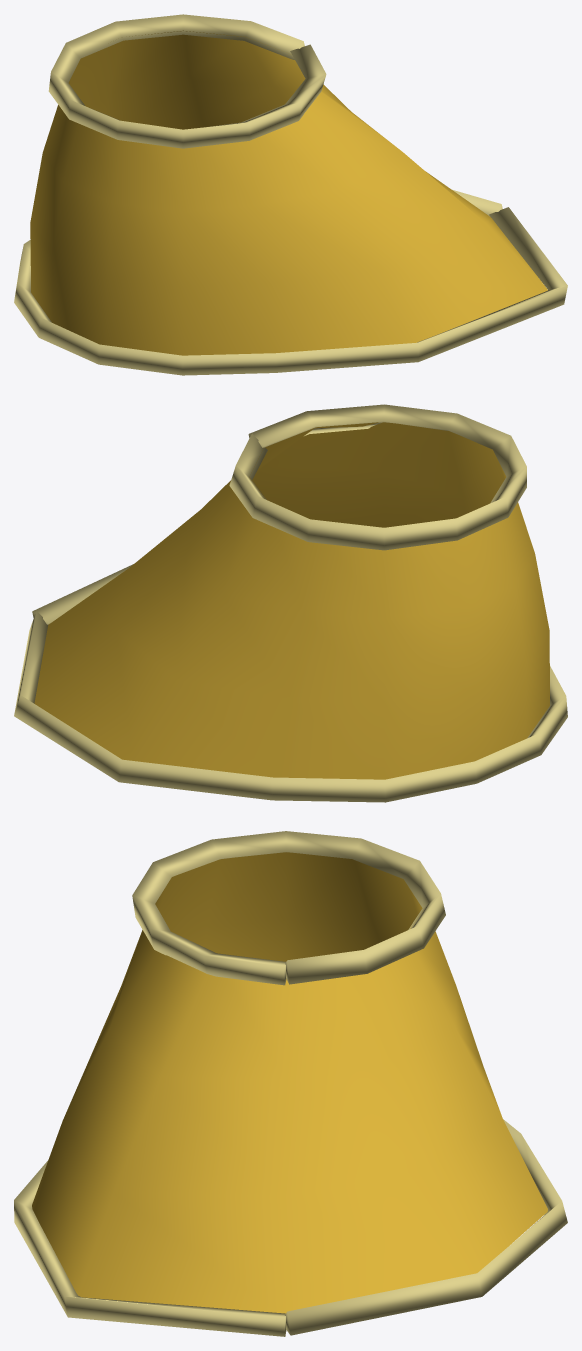
The model's file is gold_armor_pauldron.L.glb.
3 views of the same model, one above another, from view 1: azimuth 30°, elevation 25°; view 2: azimuth 150°, elevation 25°; view 3: azimuth 270°, elevation 25° (orthographic). The views are drawn at different scales.
Parts seen in each view (by area): view 1: gold_armor_pauldron.L; view 2: gold_armor_pauldron.L; view 3: gold_armor_pauldron.L.
Boxes of the visible parts, bbox=[...] form: gold_armor_pauldron.L: bbox=[14, 14, 567, 375]; gold_armor_pauldron.L: bbox=[14, 404, 567, 802]; gold_armor_pauldron.L: bbox=[14, 831, 567, 1336].
Bounding box in the file's own units: 0.3461 × 0.1645 × 0.3104.
